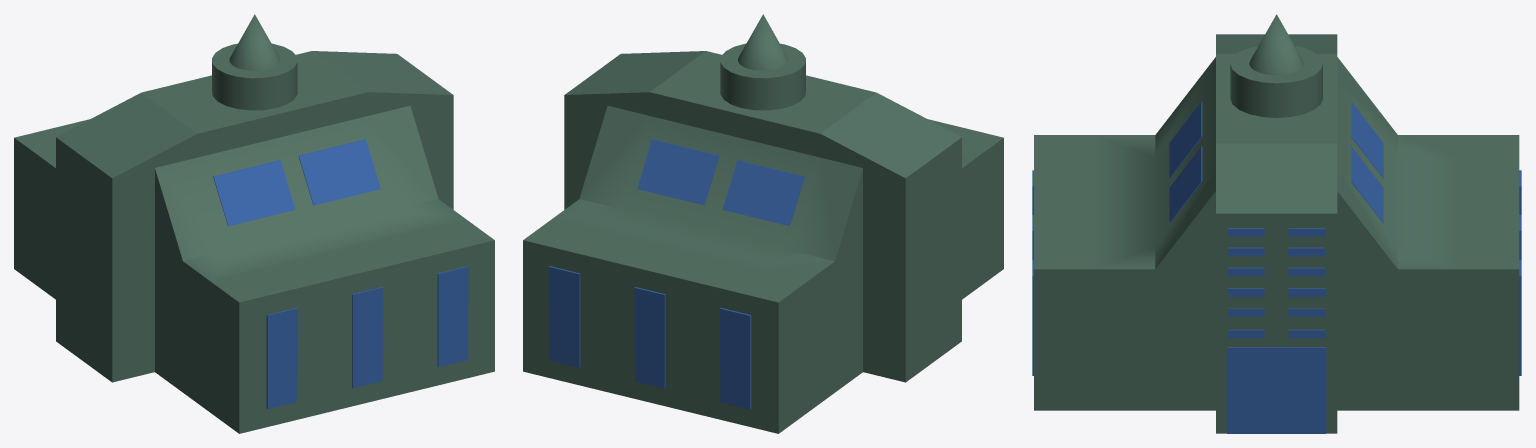
Rendered from sensin_tatemono3.fbx.
3 renders of one model, left to right at view 1: azimuth 30°, elevation 25°; view 2: azimuth 150°, elevation 25°; view 3: azimuth 270°, elevation 25°, orthographic. The views are drawn at different scales.
Parts seen in each view (by area): view 1: pasted__pCube1, pasted__pCylinder6, pasted__pCube12, pasted__pCube13, pasted__pCube6, pasted__pCube5, pasted__pCube4, pasted__pCone1; view 2: pasted__pCube1, pasted__pCylinder6, pasted__pCube10, pasted__pCube11, pasted__pCube9, pasted__pCube8, pasted__pCube7, pasted__pCone1; view 3: pasted__pCube1 (×2), pasted__pCylinder6, pasted__pCone1, pasted__pCube12, pasted__pCube13, pasted__pCube10, pasted__pCube11.
Boxes of the visible parts, x1,y1,x2,y2 form: pasted__pCube1: (14, 51, 494, 433); pasted__pCylinder6: (212, 43, 297, 110); pasted__pCube12: (298, 139, 380, 205); pasted__pCube13: (213, 160, 295, 226); pasted__pCube6: (266, 307, 297, 408); pasted__pCube5: (437, 266, 468, 367); pasted__pCube4: (352, 287, 383, 388); pasted__pCone1: (229, 14, 279, 70); pasted__pCube1: (523, 51, 1003, 433); pasted__pCylinder6: (720, 43, 805, 110); pasted__pCube10: (637, 139, 719, 205); pasted__pCube11: (722, 160, 804, 226); pasted__pCube9: (719, 307, 751, 409); pasted__pCube8: (549, 266, 580, 367); pasted__pCube7: (634, 287, 665, 388); pasted__pCone1: (738, 14, 788, 70); pasted__pCube1 (×2): (1034, 34, 1519, 433); pasted__pCylinder6: (1230, 46, 1322, 117); pasted__pCone1: (1249, 14, 1303, 75); pasted__pCube12: (1169, 146, 1202, 223); pasted__pCube13: (1169, 101, 1202, 178); pasted__pCube10: (1351, 146, 1383, 223); pasted__pCube11: (1351, 101, 1383, 178).
Bounding box in the file's own units: 1405 × 1200 × 1613.
